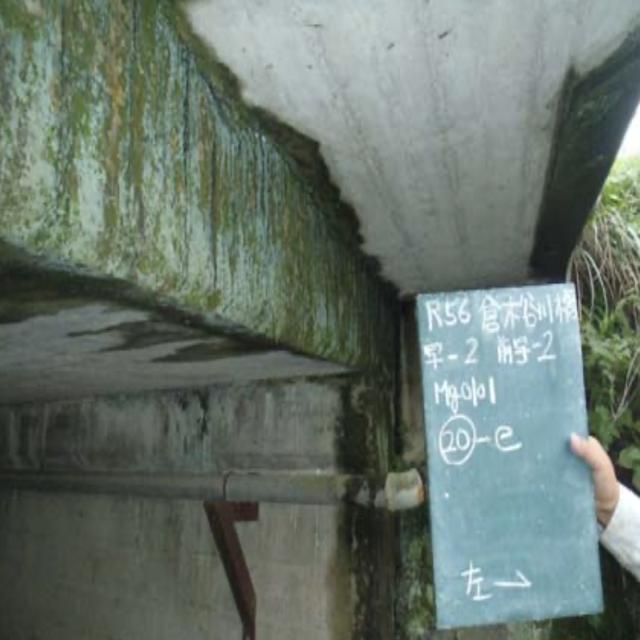leakage: (11, 4, 418, 382)
